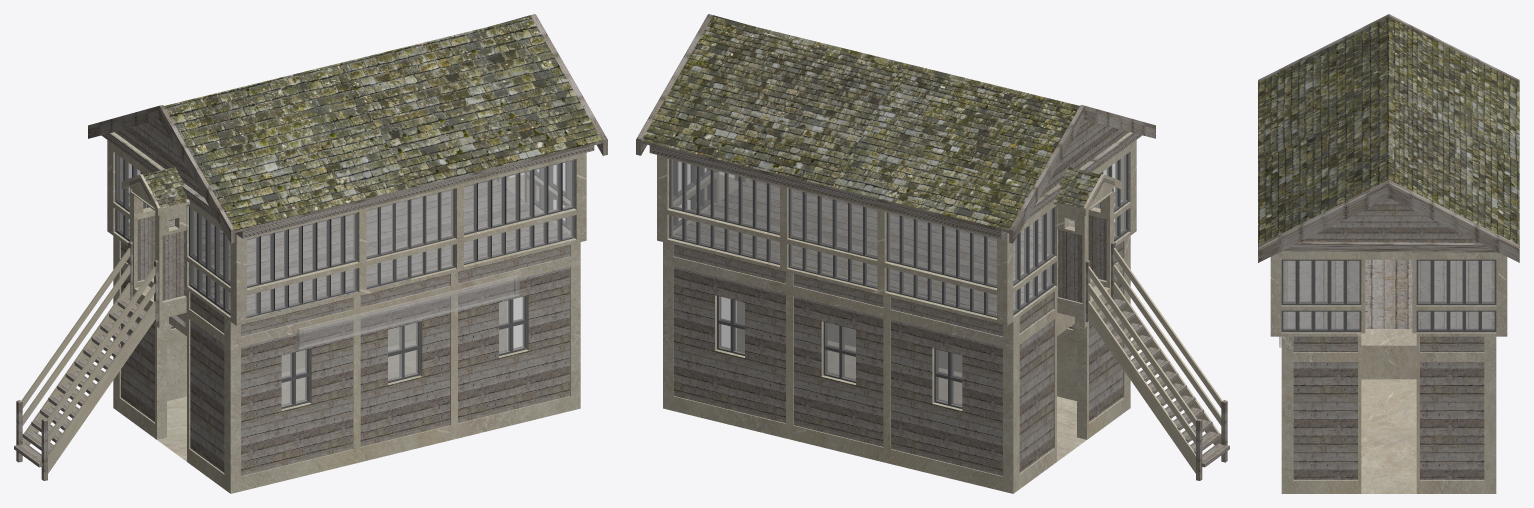
Rendered from bcsbtest.fbx.
The picture shows the model from 3 angles, left to right: view 1: azimuth 30°, elevation 25°; view 2: azimuth 150°, elevation 25°; view 3: azimuth 270°, elevation 25°; orthographic projection. The views are drawn at different scales.
Parts seen in each view (by area): view 1: Plane.000; view 2: Plane.000; view 3: Plane.000.
Part boxes in pixels (x1,y1,x2,y2): Plane.000: [14, 14, 607, 493]; Plane.000: [636, 14, 1229, 493]; Plane.000: [1258, 14, 1519, 493].
Bounding box in the file's own units: 925 × 589 × 439.
Materials: 5 (3 with a texture image).
